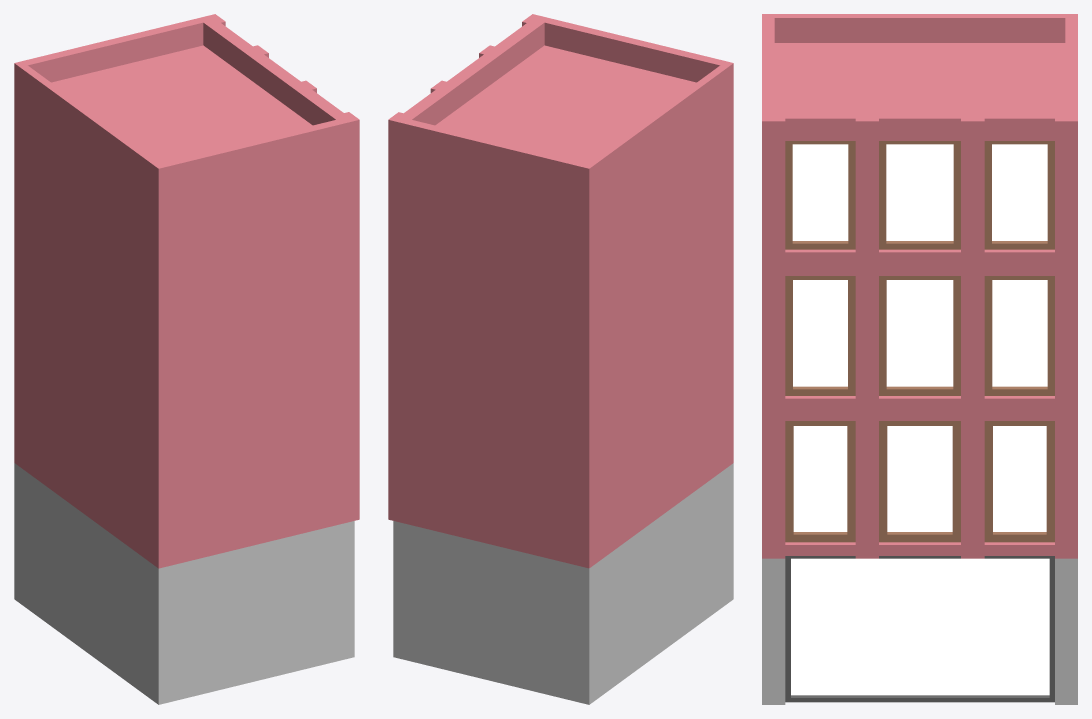
The model's file is House 2.5.fbx.
3 views of the same model, side by side, from view 1: azimuth 30°, elevation 25°; view 2: azimuth 150°, elevation 25°; view 3: azimuth 270°, elevation 25° (orthographic). The views are drawn at different scales.
Parts seen in each view (by area): view 1: House 2.005; view 2: House 2.005; view 3: House 2.005.
Part boxes in pixels (x1=…): House 2.005: x1=14, y1=14, x2=359, y2=704; House 2.005: x1=388, y1=14, x2=733, y2=704; House 2.005: x1=762, y1=14, x2=1077, y2=704.
Size of the model in its own units: 804 by 2049 by 1001.
